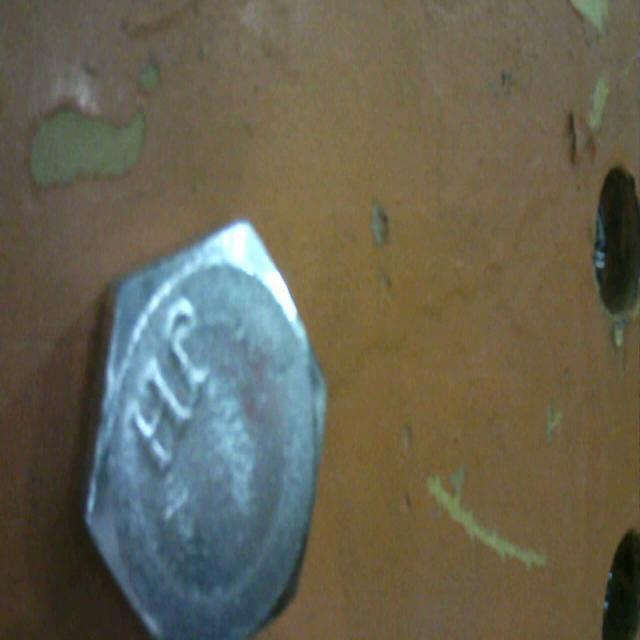Missing bolt: (588, 158, 640, 323), (596, 519, 640, 640)
Regular bolt: (79, 216, 337, 640)
